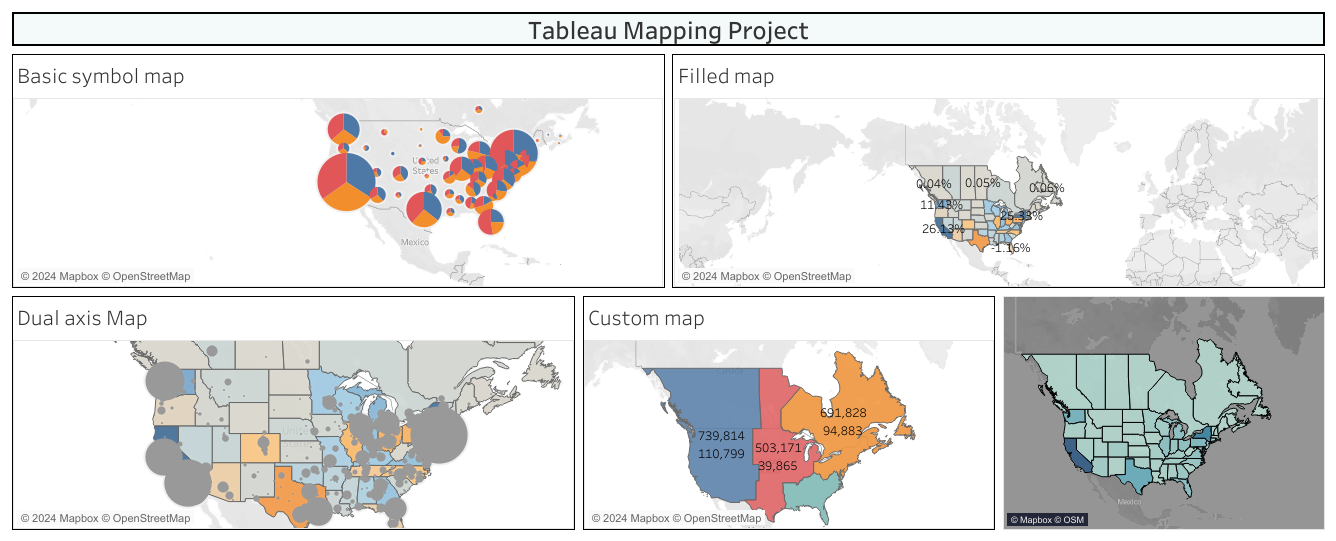

Layout of this report page (visuals, bound fields, positions):
{"tool":"tableau","page":{"name":"Tableau Mapping Project","canvas":[1000,1000],"units":"permille","ordinal":0},"visuals":[{"type":"title","box":[4.2,9.4,991.5,57.6]},{"type":"worksheet","title":"Basic symbol map","mark":"Pie","box":[4.2,67,495.8,461.8]},{"type":"worksheet","title":"Filled map","mark":"Multipolygon","box":[500,67,495.8,461.8]},{"type":"worksheet","title":"Dual axis Map","mark":"Automatic","box":[4.2,528.8,428.4,461.8]},{"type":"worksheet","title":"Custom map","mark":"Multipolygon","box":[432.6,528.8,315.2,461.8]},{"type":"worksheet","title":"Sheet 5","mark":"Automatic","box":[747.9,528.8,247.9,461.8]}]}

Visuals, with their boxes on the dashboard's canvas, which has no fixed pixel size, in thousandths of its width and height (x1, y1, x2, y2). These are canvas units, not pixel positions in the 1336x541 screenshot, which may show the page scaled, cropped or inside an application window:
title: BBox(4, 9, 996, 67)
"Basic symbol map" worksheet (Pie marks): BBox(4, 67, 500, 529)
"Filled map" worksheet (Multipolygon marks): BBox(500, 67, 996, 529)
"Dual axis Map" worksheet: BBox(4, 529, 433, 991)
"Custom map" worksheet (Multipolygon marks): BBox(433, 529, 748, 991)
"Sheet 5" worksheet: BBox(748, 529, 996, 991)
